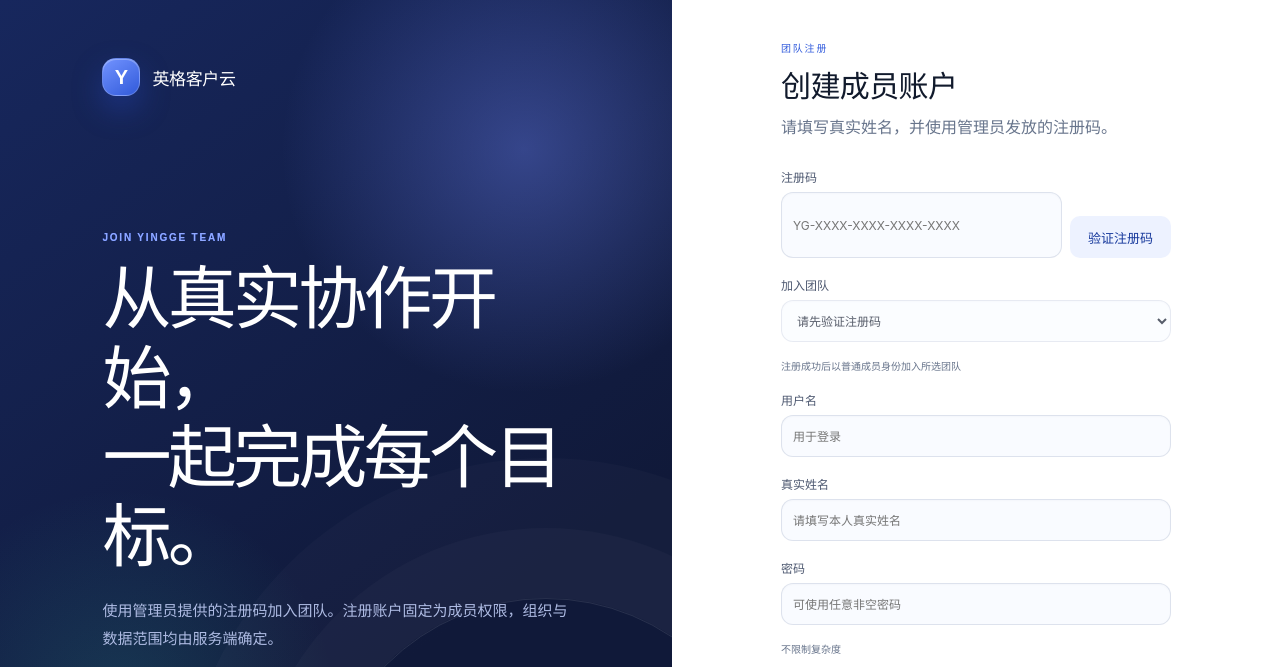
Scenario: large mocked workflow views › registers a member with real name, weak password and registration code
In the field labelled "注册码 验证注册码": (922, 225) [781,192,1062,258], type "YG-2345-6789-ABCD-EFGH"
Click the button "验证注册码": (1120, 237) [1070,216,1171,258]
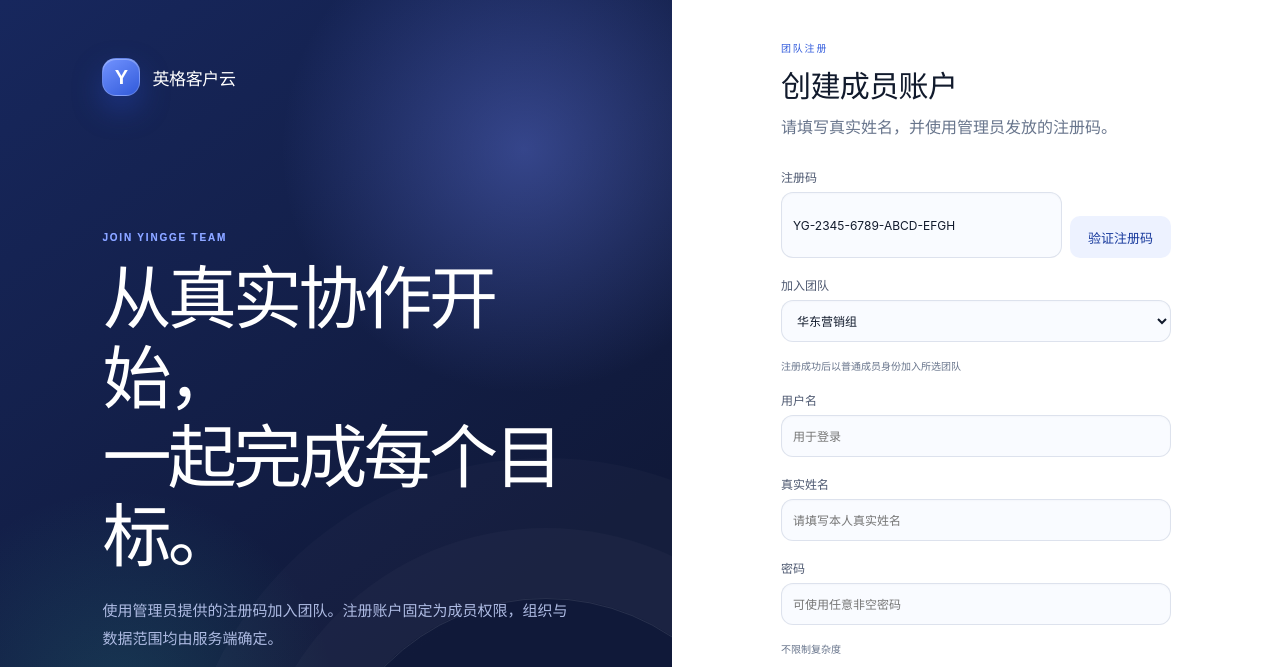
Select "华东营销组" in the dropdown labelled "加入团队 注册成功后以普通成员身份加入所选团队": (976, 321) [781,300,1171,342]
In the field labelled "用户名": (976, 436) [781,415,1171,457], type "new-user"
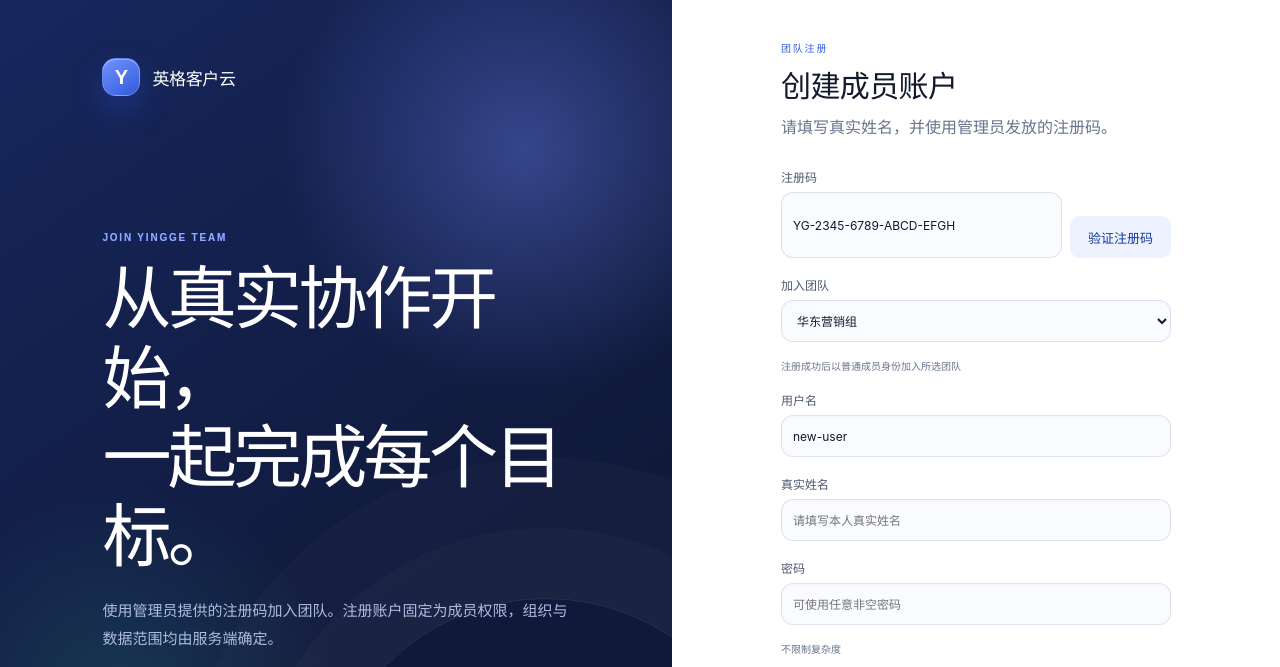
In the field labelled "真实姓名": (976, 520) [781,499,1171,541], type "王小英"
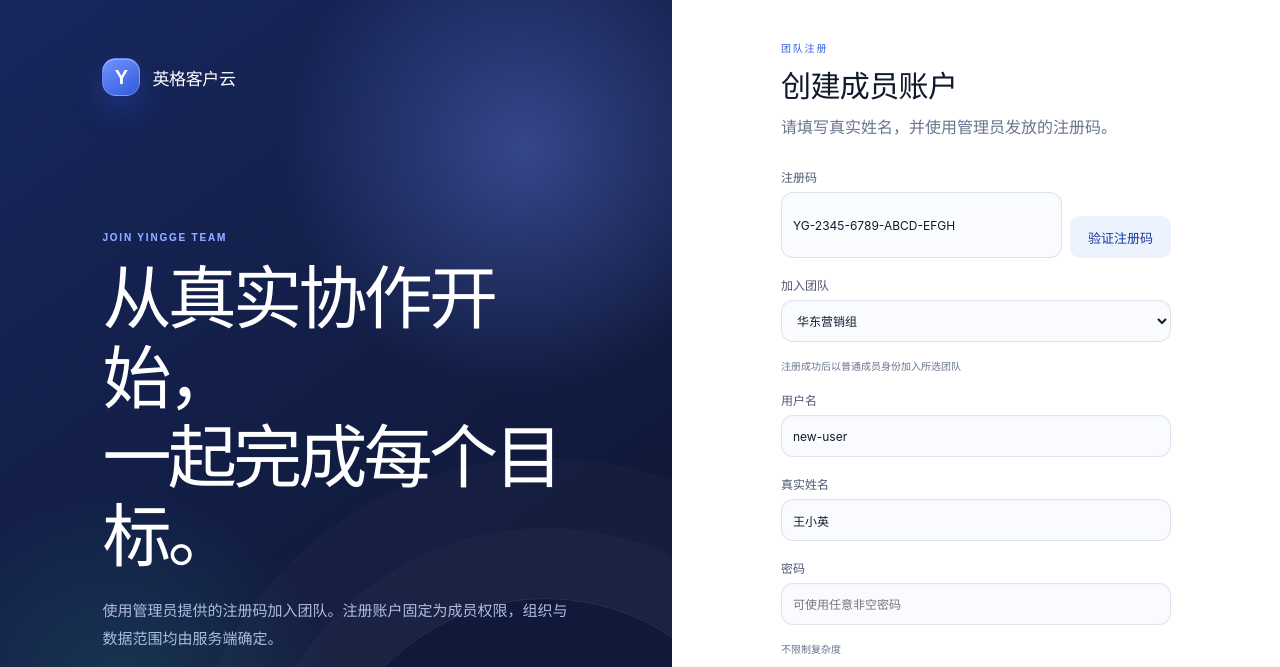
In the password field labelled "密码 不限制复杂度": (976, 604) [781,583,1171,625], type "1"
(page scrolled)
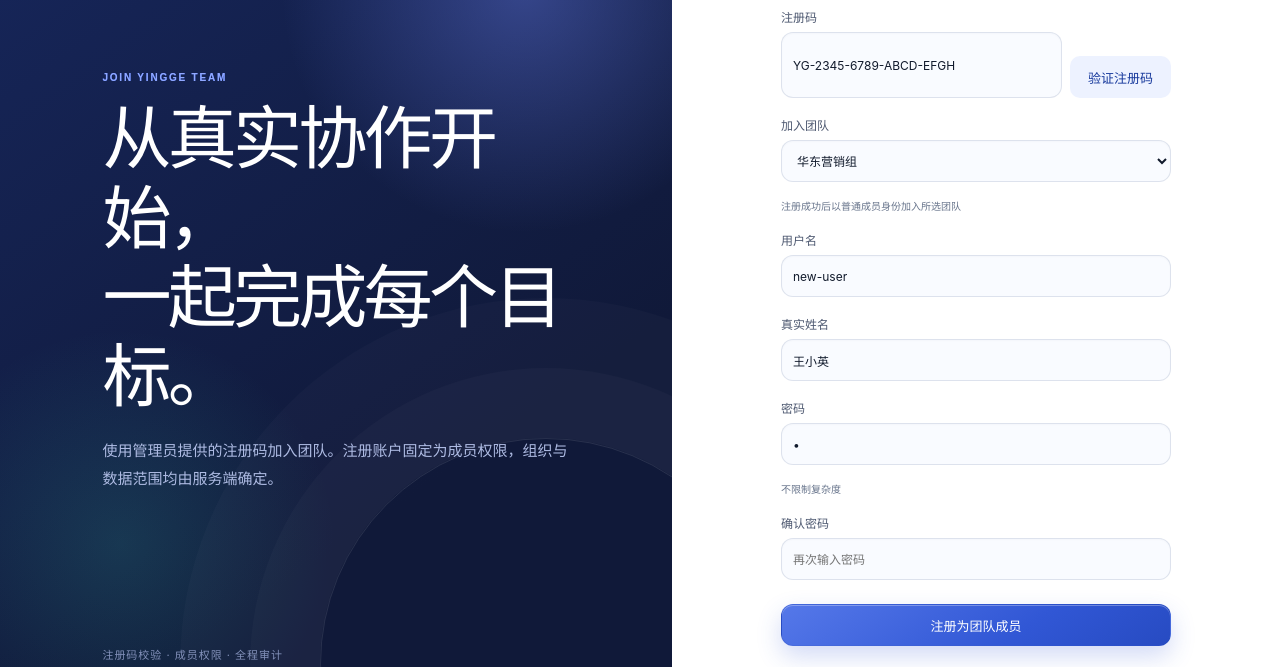
In the password field labelled "确认密码": (976, 559) [781,538,1171,580], type "1"
(page scrolled)
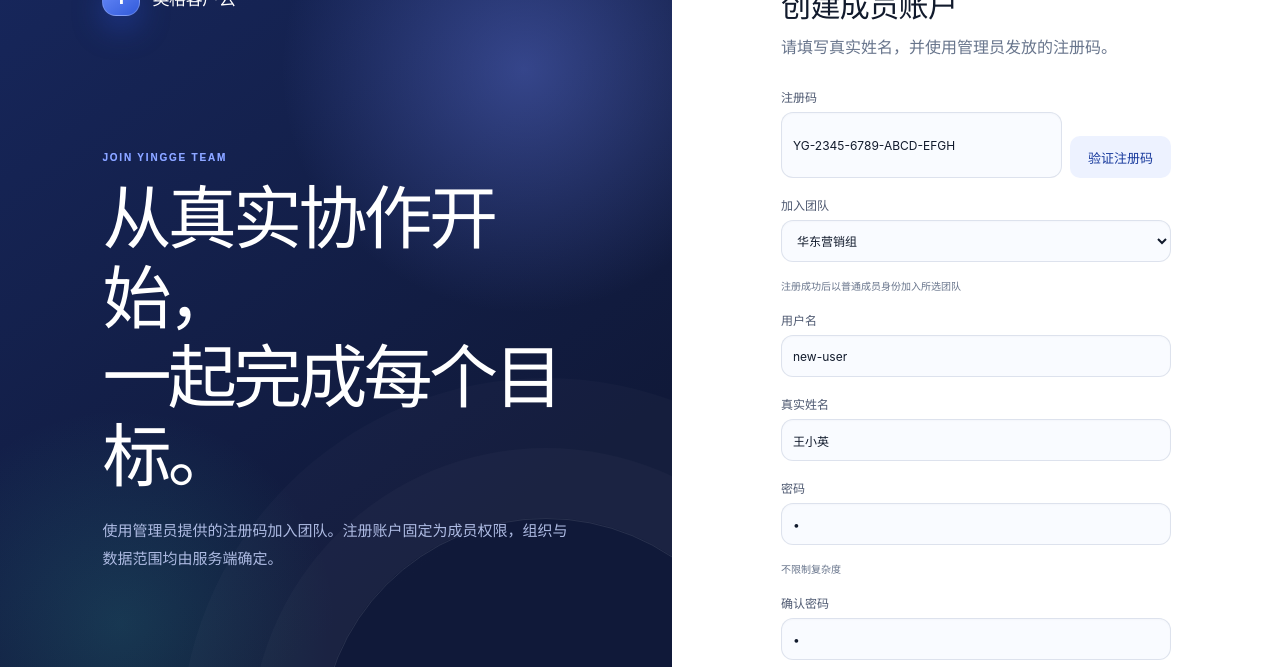
Submit the form
(page scrolled)
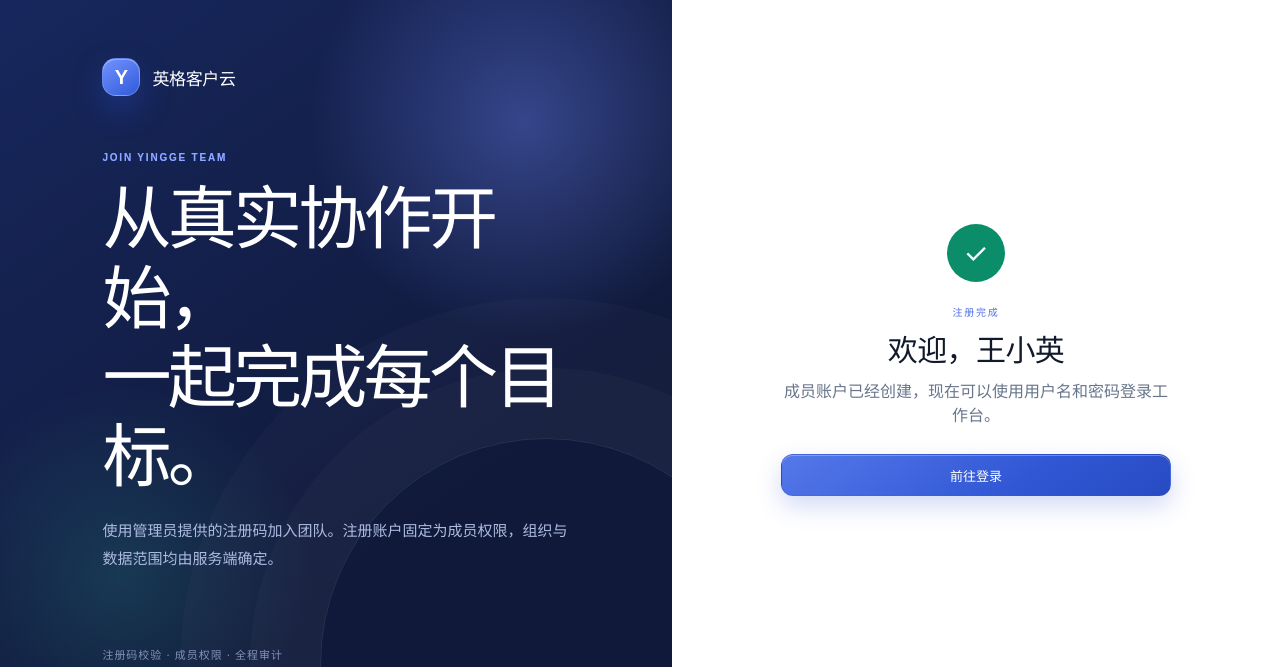
Now the text "注册完成" is shown, box [781,304,1171,319]
Now the text "王小英" is shown, box [888,332,1064,368]
